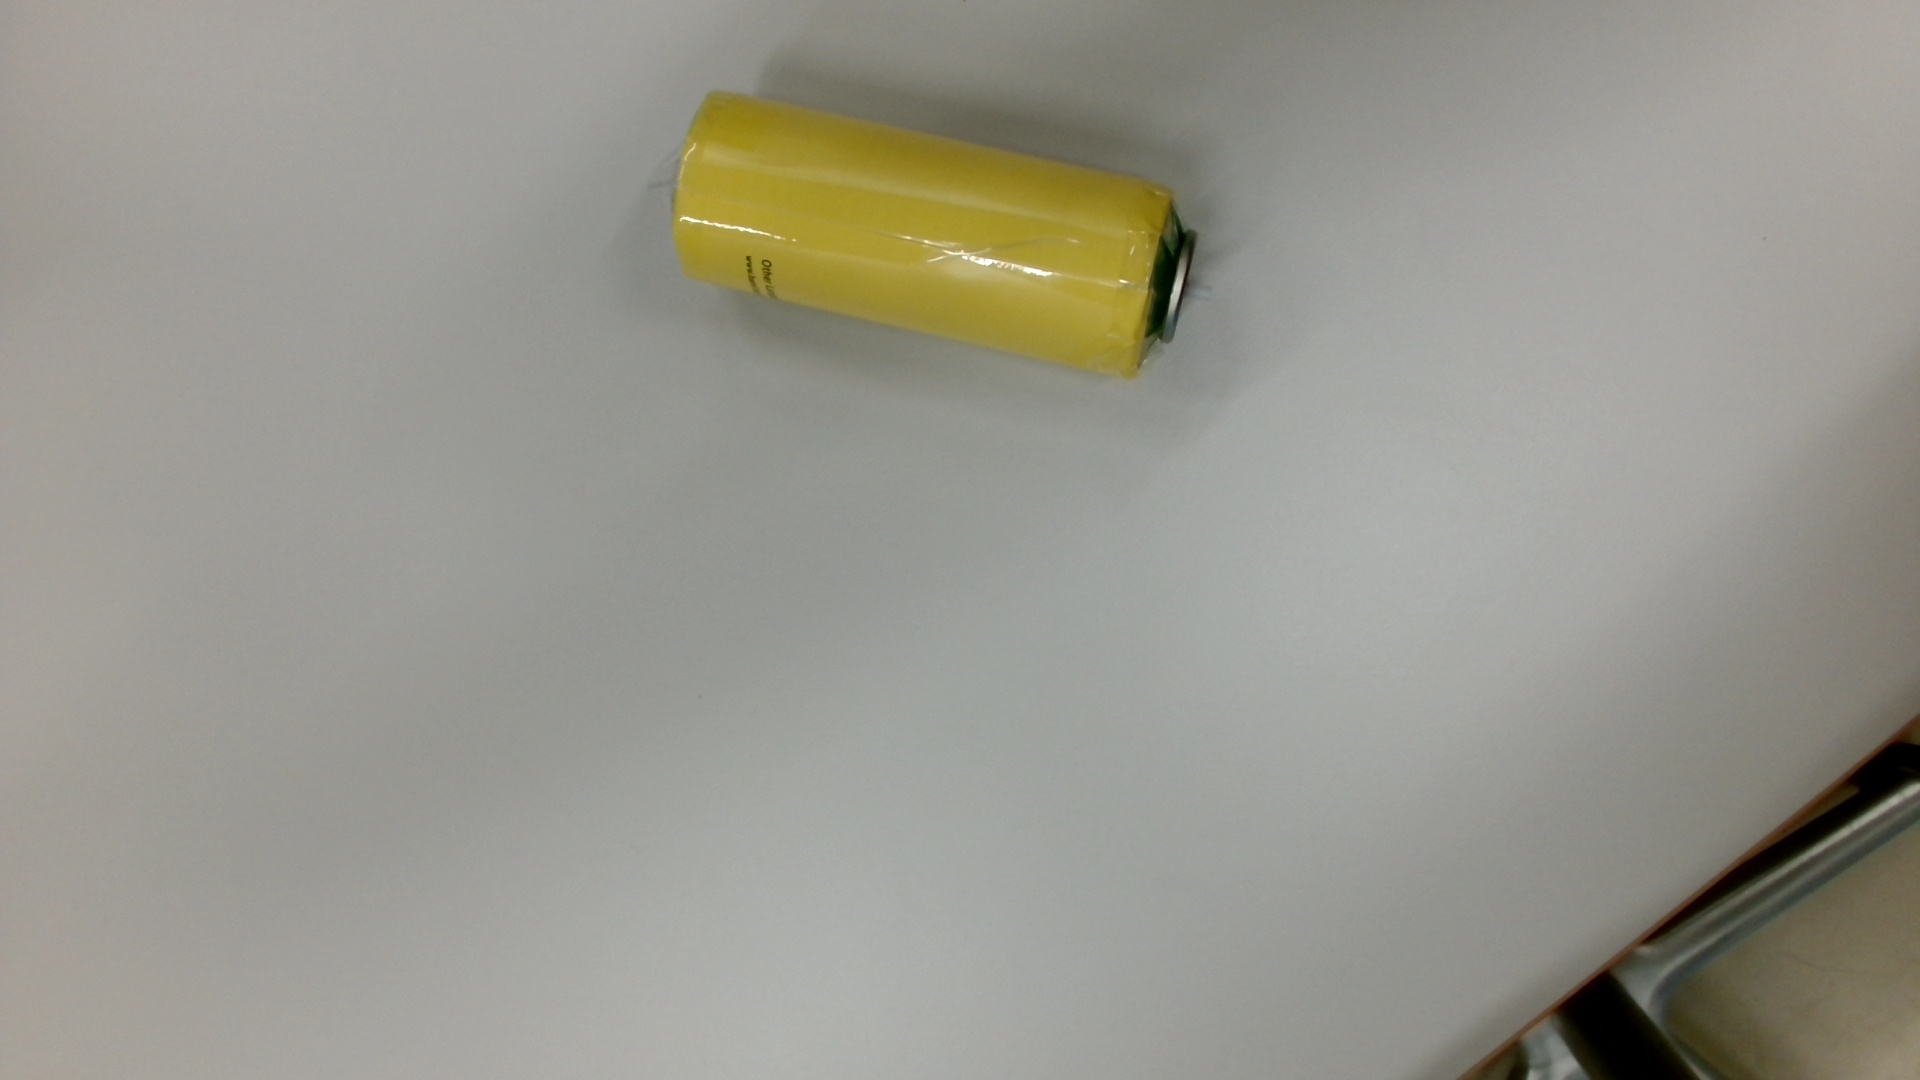Cylinder: (644, 76, 1225, 404)
